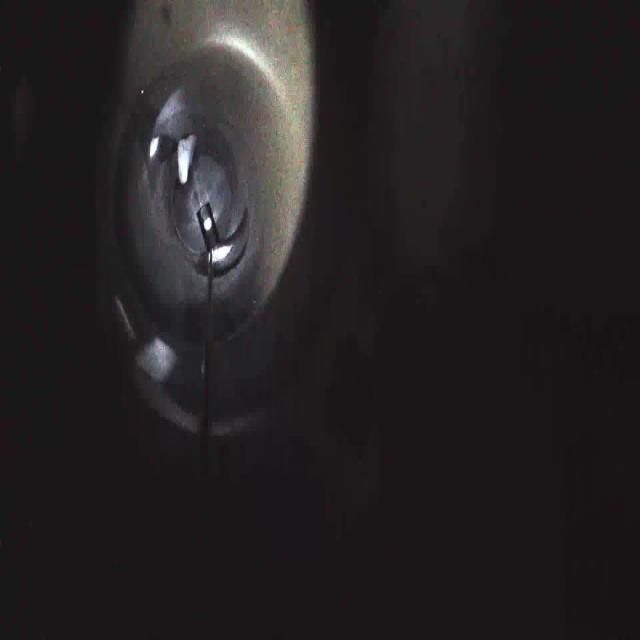impurity: (171, 126, 201, 188)
